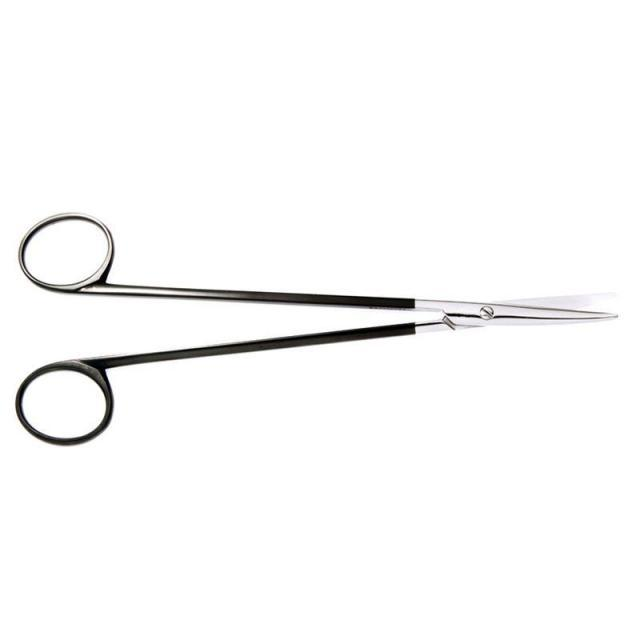Mayo_metz: (13, 212, 620, 450)
